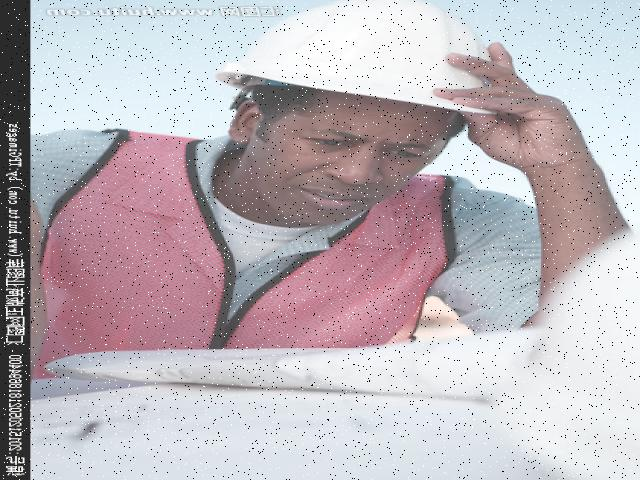Helmet: (205, 0, 519, 123)
